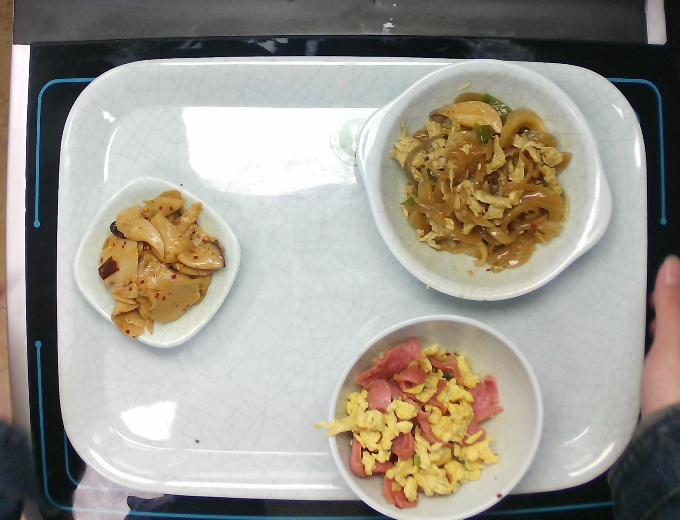JYsf-Fan_Wan: (324, 312, 546, 517)
JYsf-Shuang_Er_Wan: (355, 53, 619, 306)
JYsf-Si_Fang_Die: (65, 170, 248, 354)
